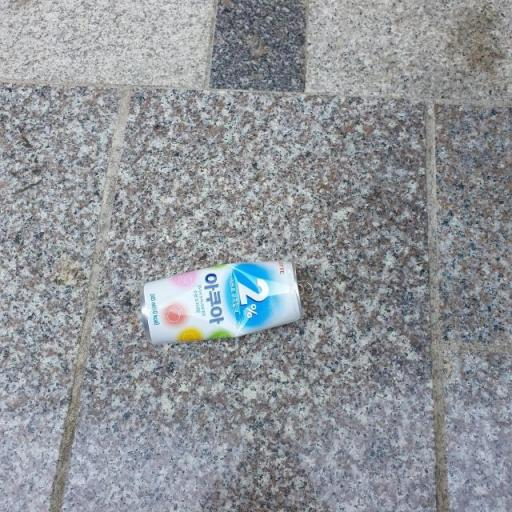metal: (106, 218, 333, 376)
